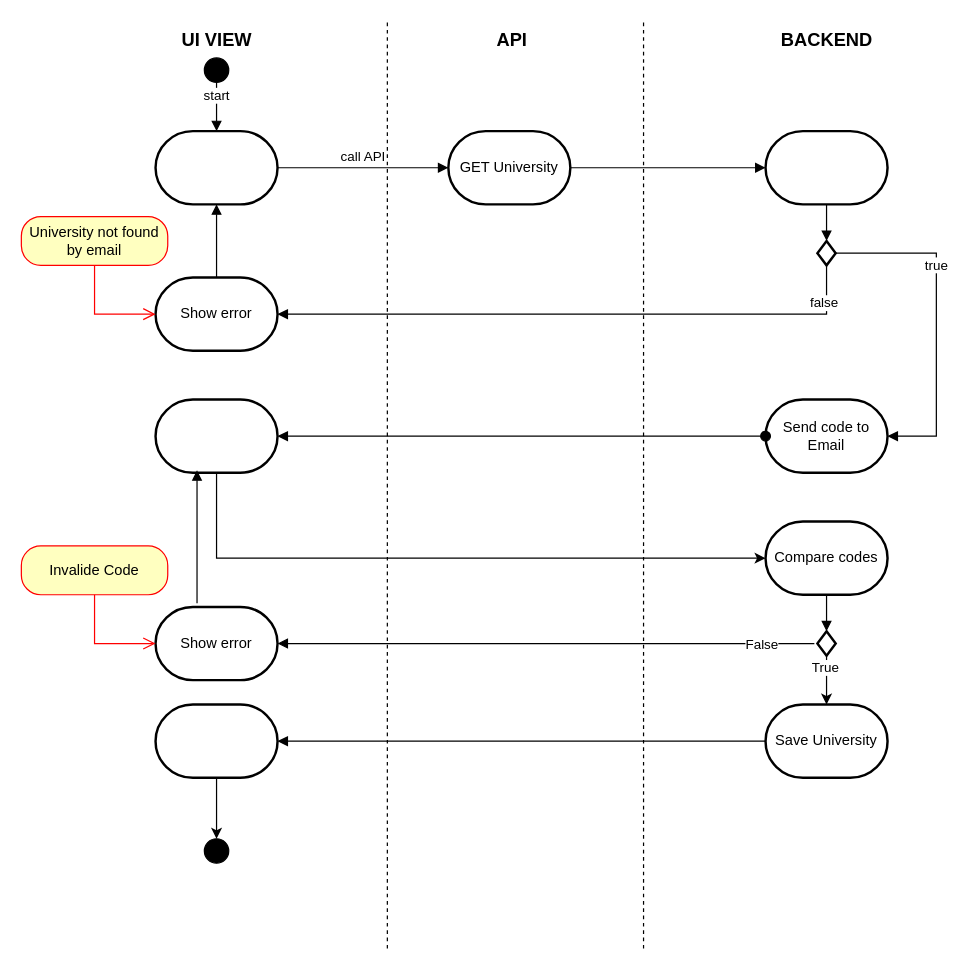
Image size: 969x971. Some labels were removed from this diagram. Here are the shapes that lost their labels. From the top down, the centre of each, then its label:
the point at 216,167: Email Introduction
the point at 826,167: Compare Email with University's Domain
the point at 216,435: Enter Code
the point at 216,740: Profile Page
